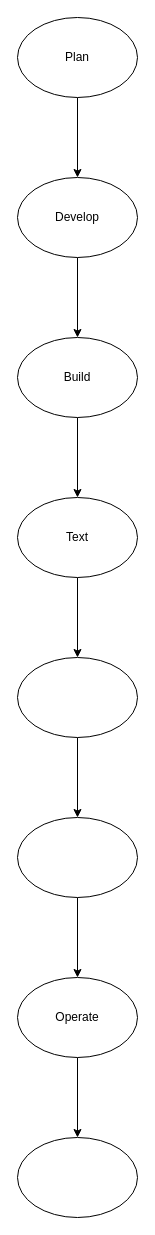
This 155x1235 diagram has some shape labels left out. The shapes that lost their labels are listed below. From the top down, each one's centre as x and y in pixels, then its label:
the point at 77,697: Release
the point at 77,857: Deploy
